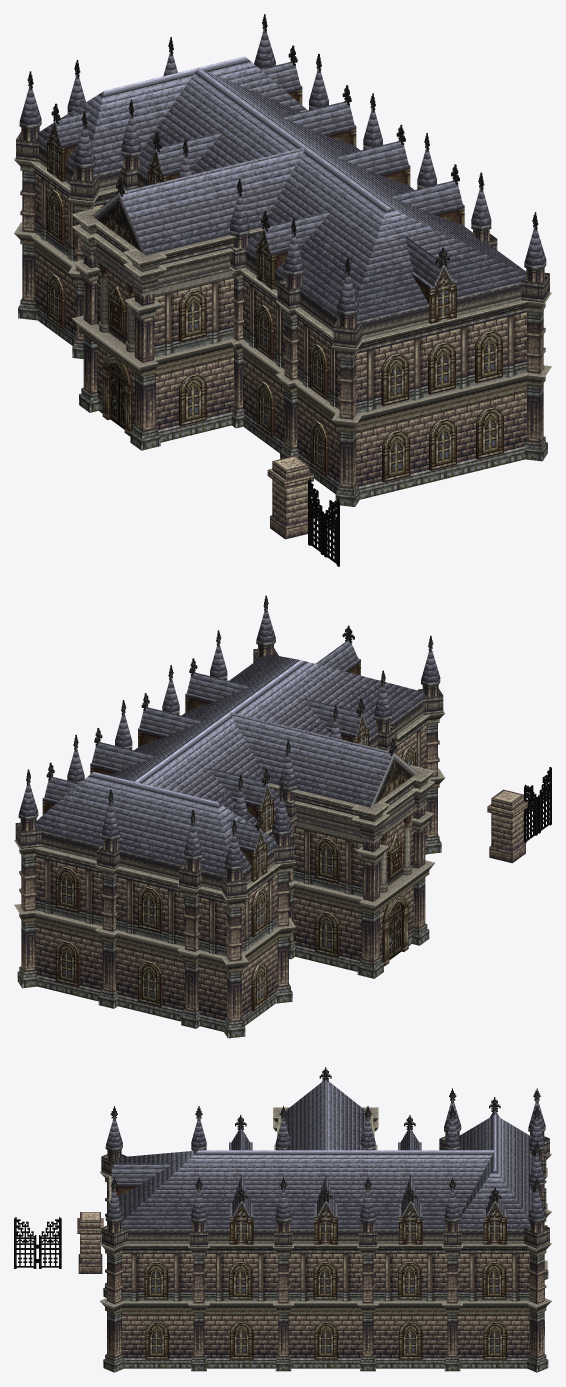
The model's file is ObjMD_Hall_A.FBX.
The picture shows the model from 3 angles, top to bottom: view 1: azimuth 30°, elevation 25°; view 2: azimuth 150°, elevation 25°; view 3: azimuth 270°, elevation 25°; orthographic projection. The views are drawn at different scales.
Parts seen in each view (by area): view 1: ObjMD_Hall_A, ObjMD_Hall_Gate, ObjMD_Hall_Gate_Door_L, ObjMD_Hall_Gate_Door_R; view 2: ObjMD_Hall_A, ObjMD_Hall_Gate, ObjMD_Hall_Gate_Door_L, ObjMD_Hall_Gate_Door_R; view 3: ObjMD_Hall_A, ObjMD_Hall_Gate, ObjMD_Hall_Gate_Door_L, ObjMD_Hall_Gate_Door_R.
Boxes of the visible parts, x1=… form: ObjMD_Hall_A: x1=14, y1=14, x2=551, y2=506; ObjMD_Hall_Gate: x1=267, y1=455, x2=313, y2=539; ObjMD_Hall_Gate_Door_L: x1=323, y1=499, x2=339, y2=566; ObjMD_Hall_Gate_Door_R: x1=308, y1=479, x2=323, y2=554; ObjMD_Hall_A: x1=14, y1=595, x2=444, y2=1038; ObjMD_Hall_Gate: x1=487, y1=789, x2=527, y2=863; ObjMD_Hall_Gate_Door_L: x1=538, y1=767, x2=551, y2=833; ObjMD_Hall_Gate_Door_R: x1=524, y1=784, x2=538, y2=842; ObjMD_Hall_A: x1=99, y1=1067, x2=551, y2=1372; ObjMD_Hall_Gate: x1=77, y1=1212, x2=103, y2=1273; ObjMD_Hall_Gate_Door_L: x1=14, y1=1217, x2=37, y2=1268; ObjMD_Hall_Gate_Door_R: x1=37, y1=1217, x2=61, y2=1268.
Bounding box in the file's own units: 1327 × 1012 × 2546.
